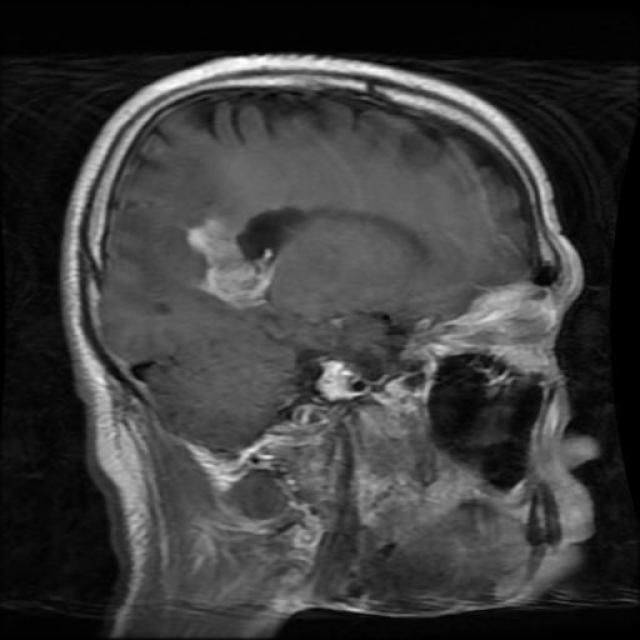glioma: (191, 212, 301, 308)
